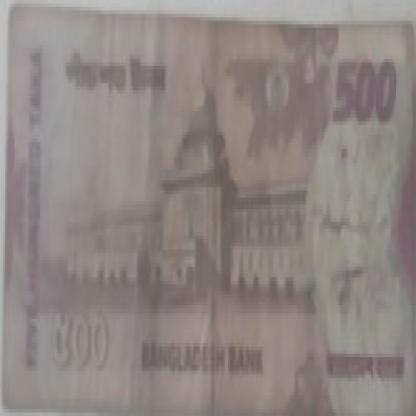500 taka: (65, 42, 180, 121), (330, 56, 404, 135)
currency: (3, 4, 414, 412)
